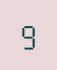nine: (19, 20, 36, 49)
